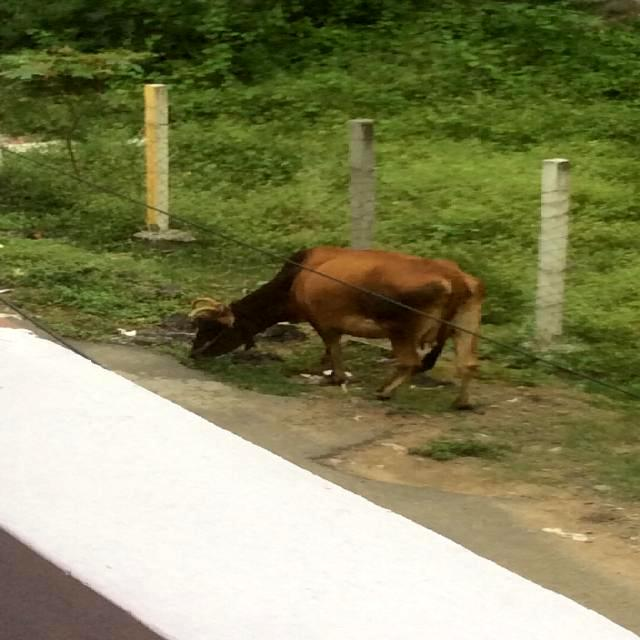COW: (191, 246, 484, 408)
